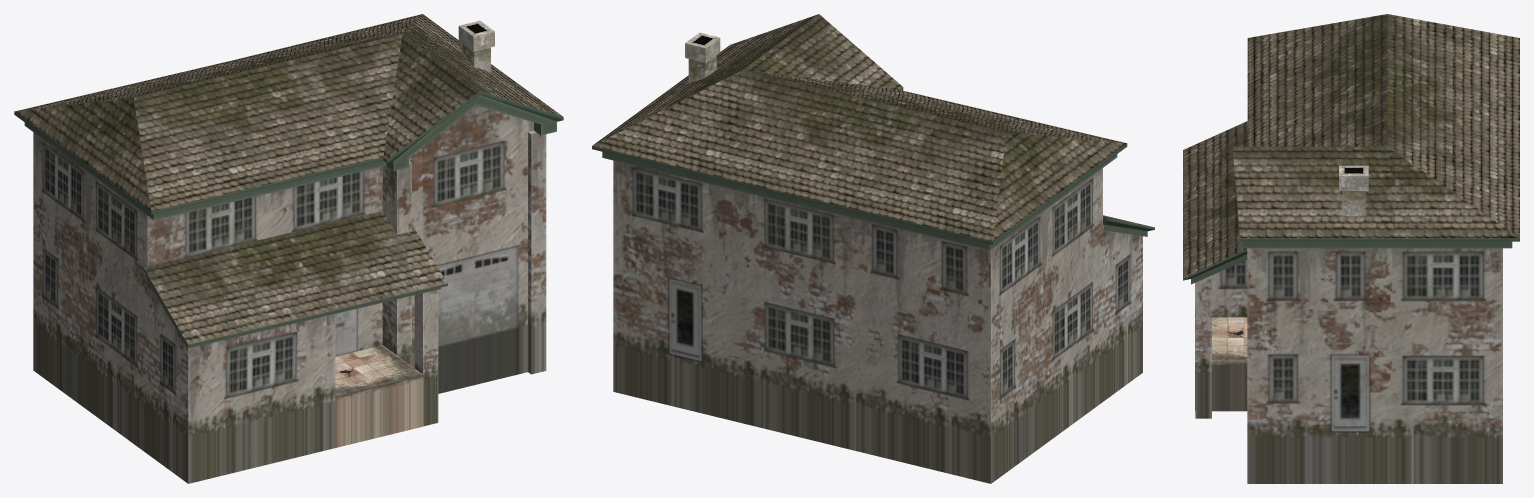
File: House 4 - Separated.fbx
The picture shows the model from 3 angles, left to right: view 1: azimuth 30°, elevation 25°; view 2: azimuth 150°, elevation 25°; view 3: azimuth 270°, elevation 25°; orthographic projection.
Visible parts, largest first — view 1: House 4, Door_Garage, Door_Front; view 2: House 4, Door_Back; view 3: House 4, Door_Side_Right.
Part boxes in pixels (x1,y1,x2,y2): House 4: [14, 14, 563, 483]; Door_Garage: [437, 245, 518, 347]; Door_Front: [335, 309, 354, 355]; House 4: [592, 14, 1154, 483]; Door_Back: [671, 282, 699, 357]; House 4: [1183, 14, 1519, 483]; Door_Side_Right: [1333, 359, 1367, 427].
Bounding box in the file's own units: 4.87 × 3.5 × 3.5.
